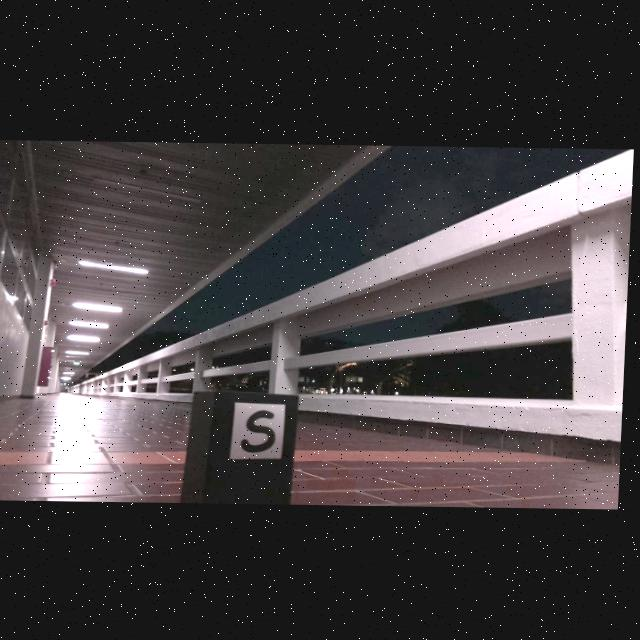S: (245, 410, 280, 452)
